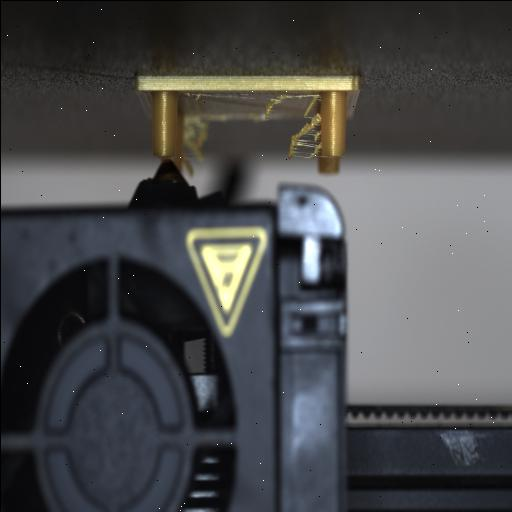stringing: (285, 96, 321, 160)
